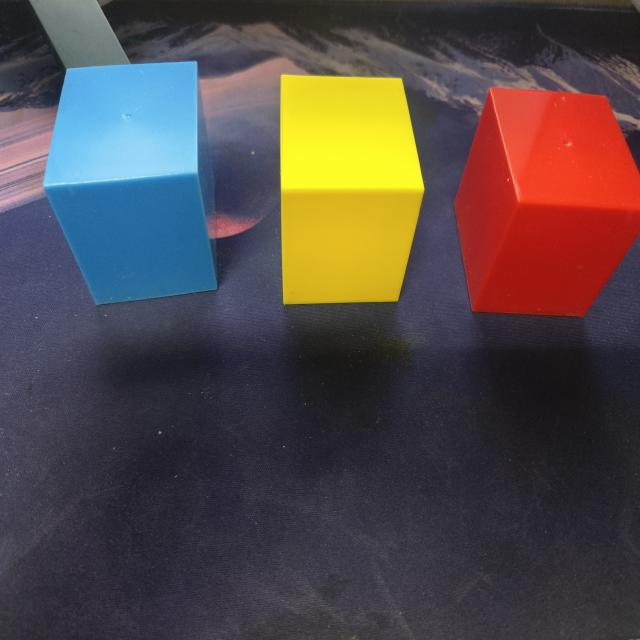blue: (42, 61, 218, 308)
red: (454, 87, 640, 320)
yellow: (276, 73, 425, 308)
